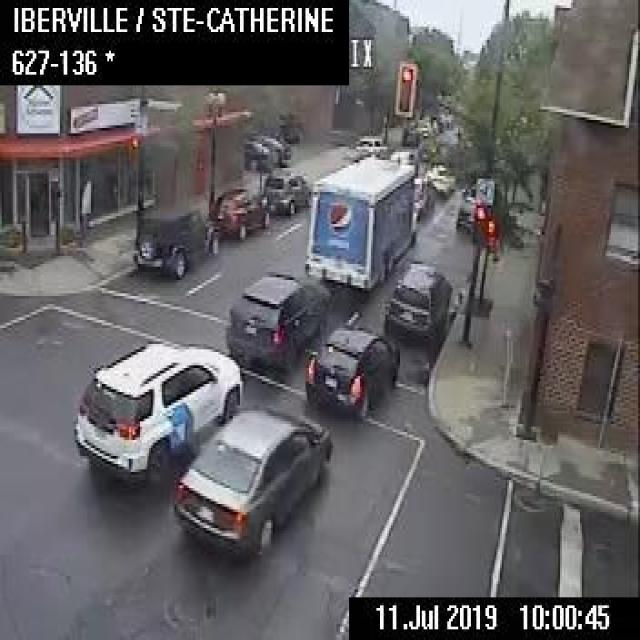vehicle: (72, 336, 242, 480), (172, 406, 330, 552), (302, 152, 418, 290), (225, 270, 332, 368), (304, 324, 399, 419), (131, 204, 218, 275), (386, 260, 450, 339), (206, 186, 272, 239), (454, 180, 499, 234), (262, 169, 312, 212), (245, 132, 290, 163), (422, 158, 455, 194), (410, 173, 432, 216), (242, 138, 272, 169), (353, 135, 386, 160), (389, 146, 420, 171)
